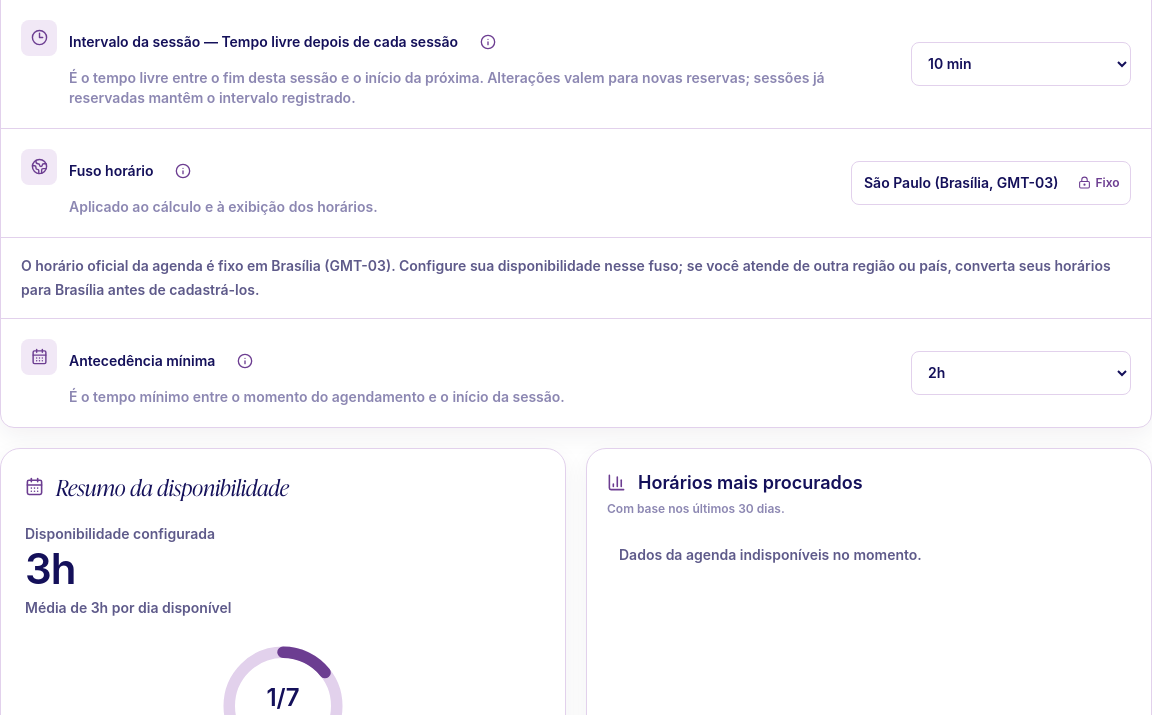
Scenario: TherapistScheduleHours › explains the minimum notice rule with the scheduling examples
(page scrolled)
Expected: the text "É o tempo mínimo entre o momento do agendamento e o início da sessão." is shown, [69,387,565,407]
Click the button named "Saiba mais sobre Antecedência mínima" at [245, 361], box [223,339,267,383]
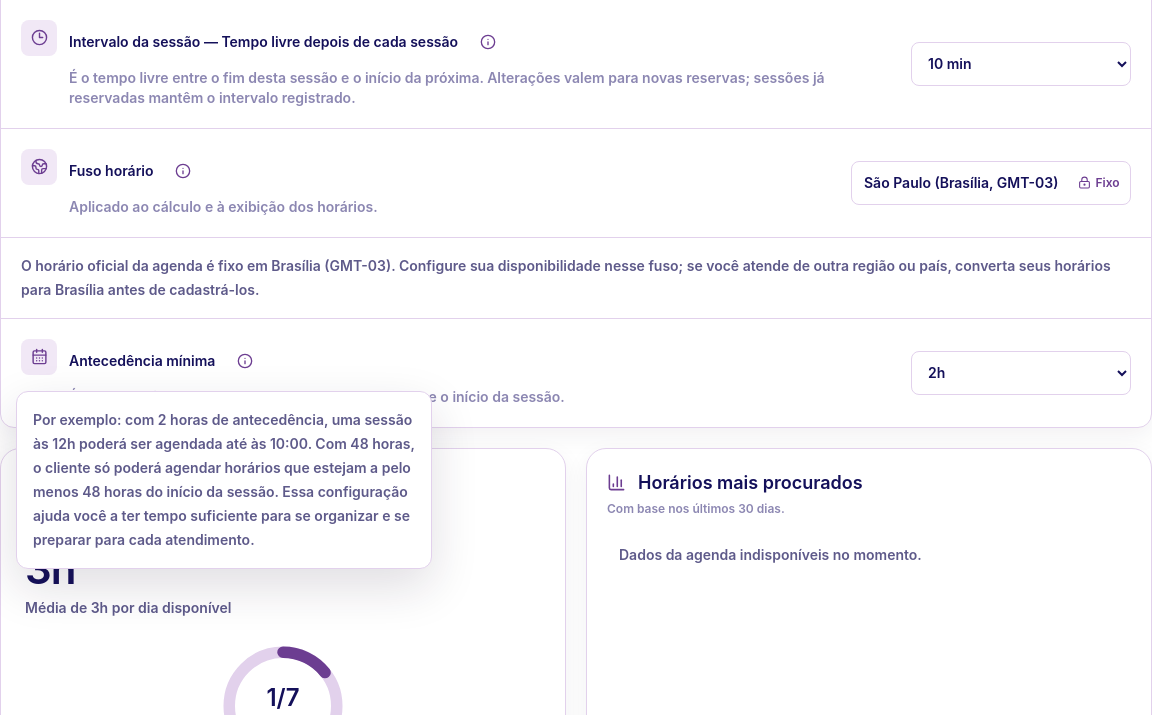
Expected: the tooltip shows "Por exemplo: com 2 horas de antecedência, uma sessão às 12h poderá ser agendada até às 10:00.", [33,411,415,548]
Expected: the tooltip shows "Essa configuração ajuda você a ter tempo suficiente para se organizar e se preparar para cada atendimento.", [33,411,415,548]
